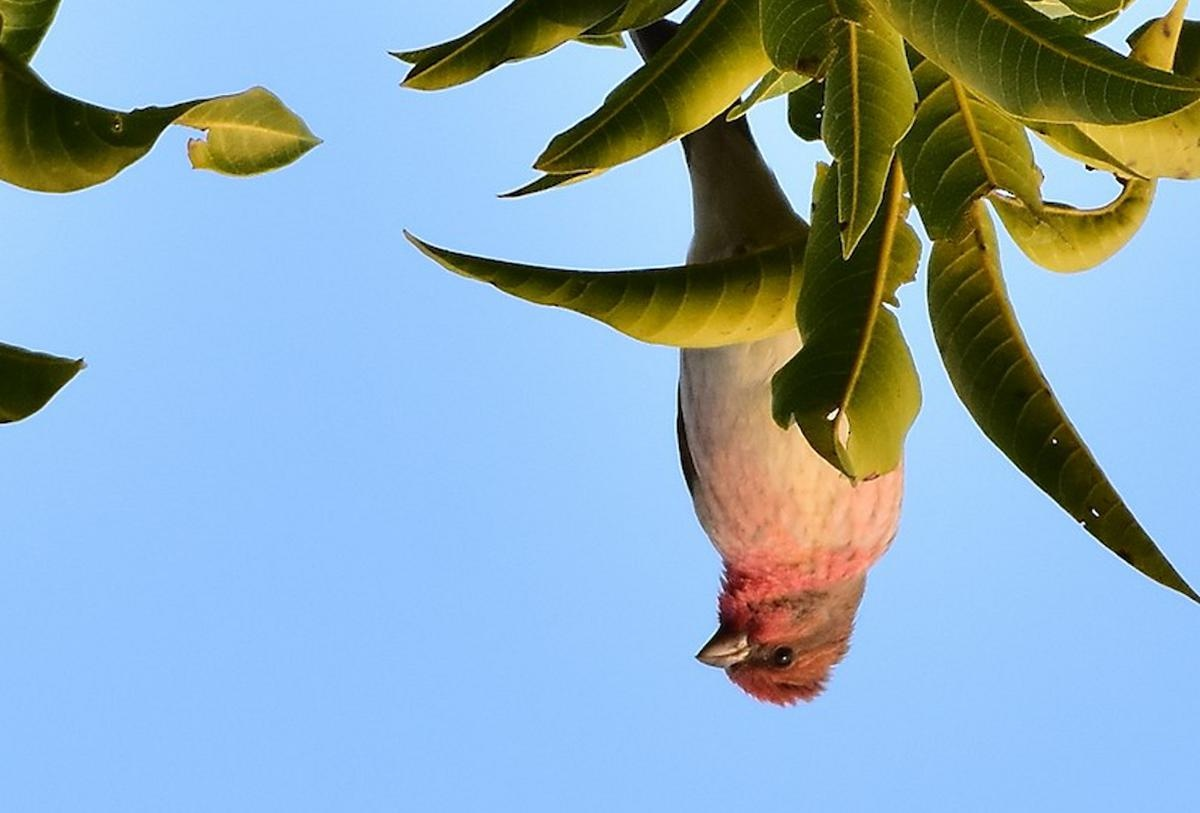rosefinch: (708, 176, 868, 682)
